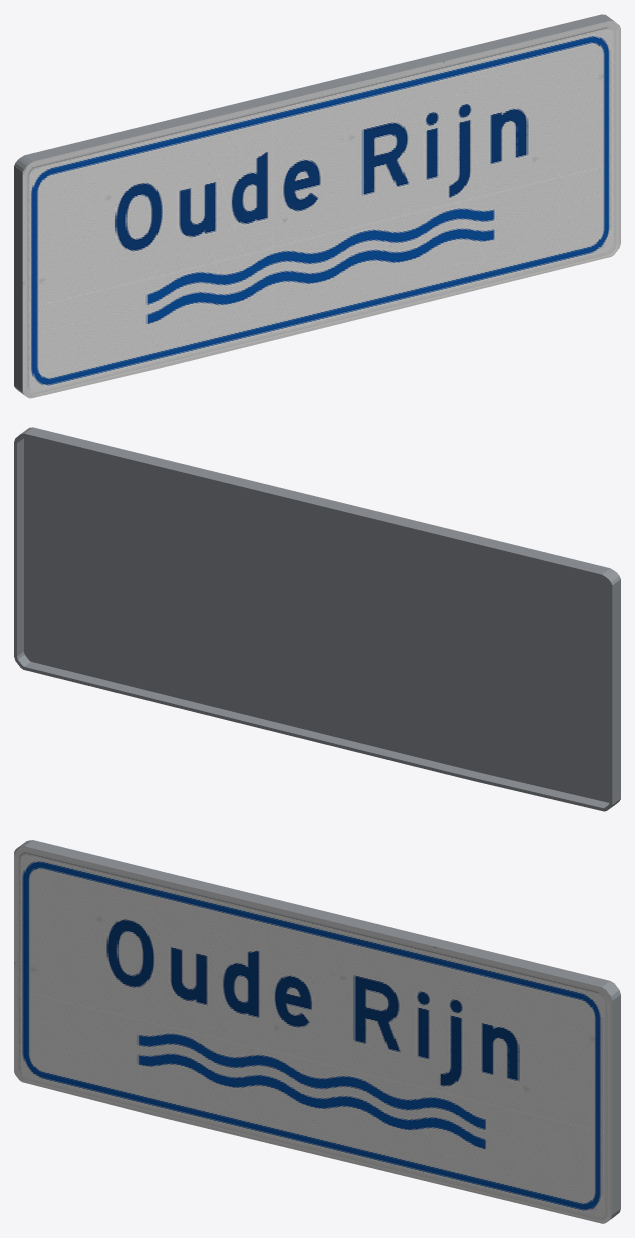
3 renders of one model, top to bottom at view 1: azimuth 30°, elevation 25°; view 2: azimuth 150°, elevation 25°; view 3: azimuth 330°, elevation 25°, orthographic.
Parts seen in each view (by area): view 1: cat_52b5f8db5b0e43e3; view 2: cat_52b5f8db5b0e43e3; view 3: cat_52b5f8db5b0e43e3.
Part boxes in pixels (<box>): cat_52b5f8db5b0e43e3: <box>14,14,620,398</box>; cat_52b5f8db5b0e43e3: <box>14,427,620,811</box>; cat_52b5f8db5b0e43e3: <box>14,840,620,1223</box>.
Size of the model in its own units: 0.6 by 0.015 by 0.2278.
Materials: 2 (1 with a texture image).
